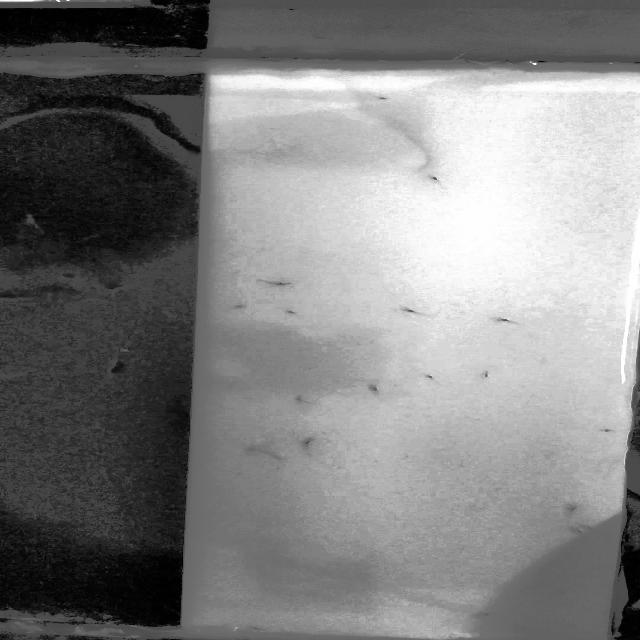shrimp: (246, 444, 280, 466), (399, 303, 433, 315), (366, 93, 406, 102), (490, 317, 524, 327), (564, 528, 592, 540), (262, 278, 294, 288), (422, 172, 448, 184), (578, 524, 599, 536), (472, 610, 502, 618), (567, 502, 586, 514), (301, 436, 317, 450), (421, 372, 441, 382), (479, 368, 496, 379), (367, 385, 384, 394), (284, 305, 299, 315), (248, 623, 264, 632), (554, 587, 570, 595), (295, 395, 307, 403), (232, 304, 245, 311)
